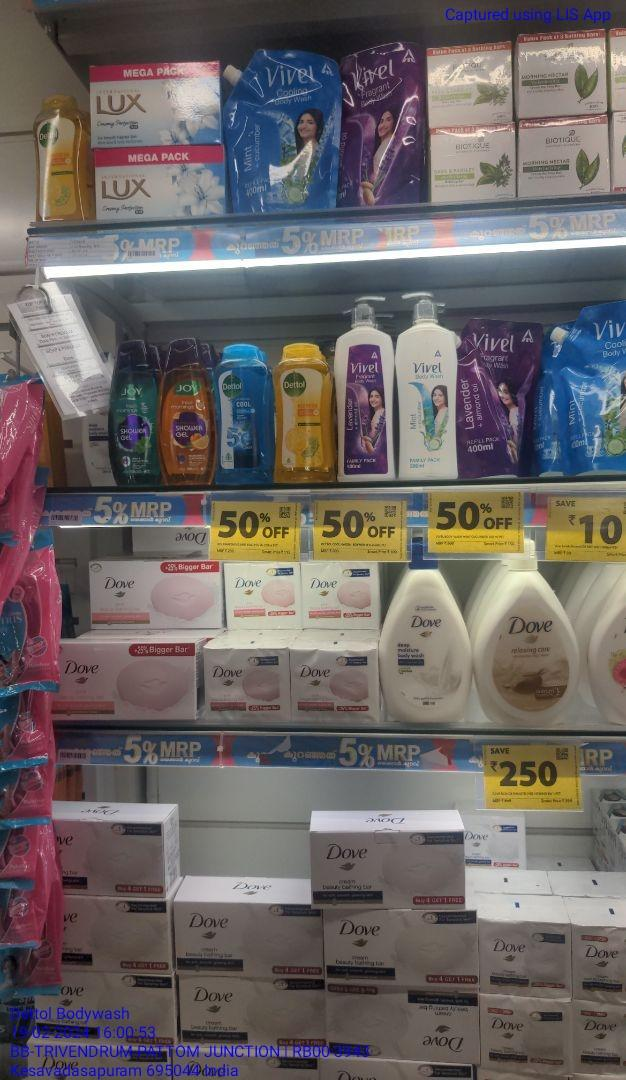Dettol_Bodywash_Cool: (218, 339, 273, 488)
Dettol_Bodywash_Refresh: (277, 337, 337, 484)
Joy_Shower_Gel_Mandarin_and_Lemongrass_250ML: (166, 338, 211, 482)
Joy_Shower_Gel_Mint_and_Eucalyptus_250ML: (111, 338, 163, 482)
